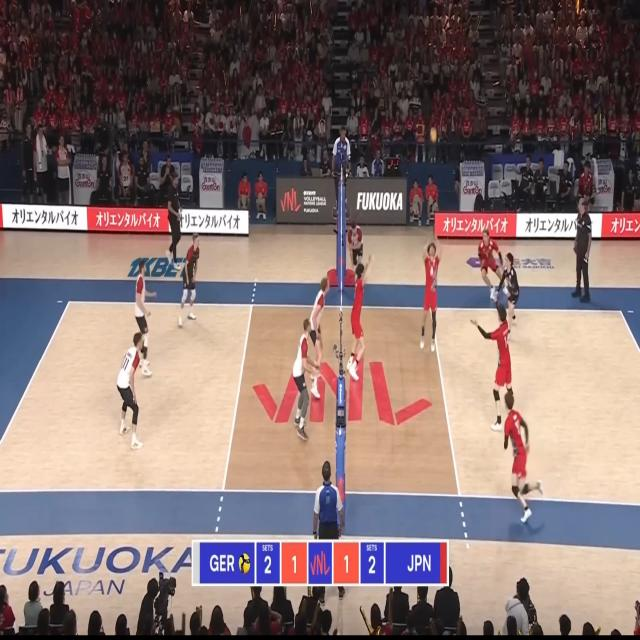ball: (431, 128, 436, 142)
